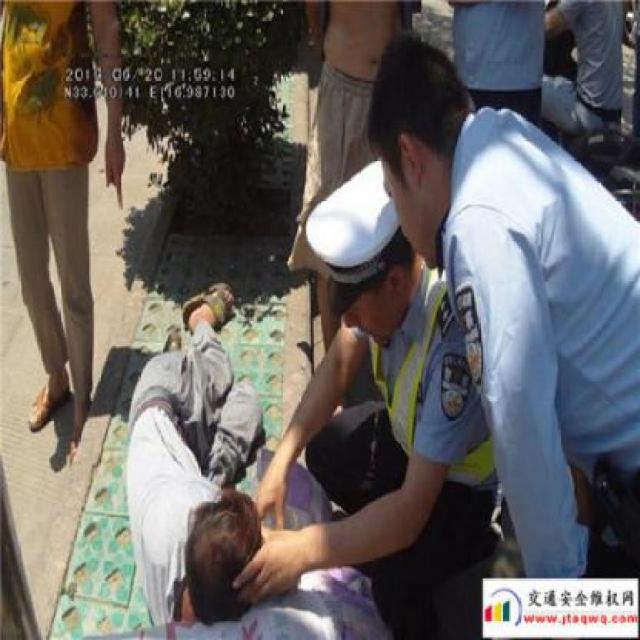fall: (114, 263, 269, 631)
